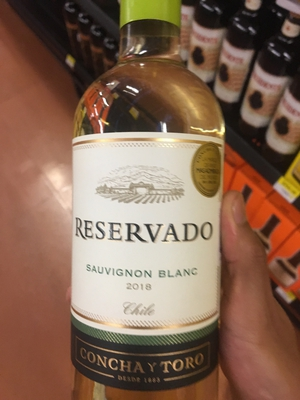reservado sauvignon blanc: (76, 26, 223, 400)
